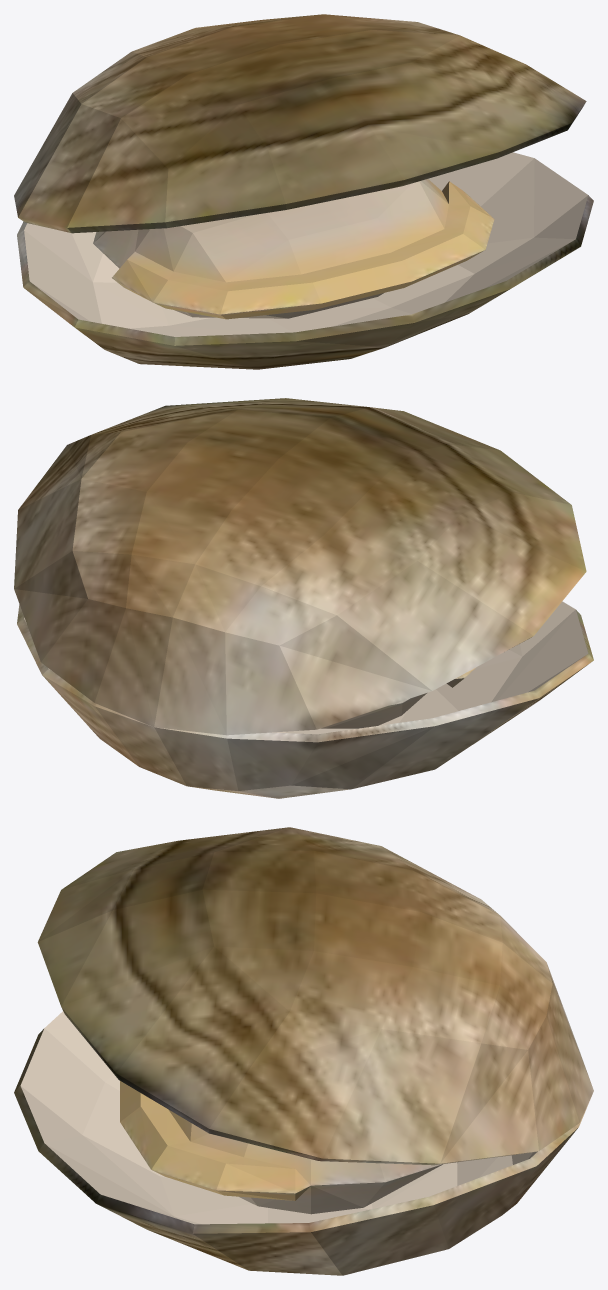
The model's file is animals-clam-032.glb.
3 renders of one model, top to bottom at view 1: azimuth 30°, elevation 25°; view 2: azimuth 150°, elevation 25°; view 3: azimuth 270°, elevation 25°, orthographic. The views are drawn at different scales.
Parts seen in each view (by area): view 1: Node; view 2: Node; view 3: Node.
Part boxes in pixels (x1,y1,x2,y2): Node: [14, 14, 593, 369]; Node: [14, 398, 593, 798]; Node: [14, 827, 593, 1275].
Size of the model in its own units: 1.11 by 0.6029 by 0.9629.
Materials: 2 (1 with a texture image).
